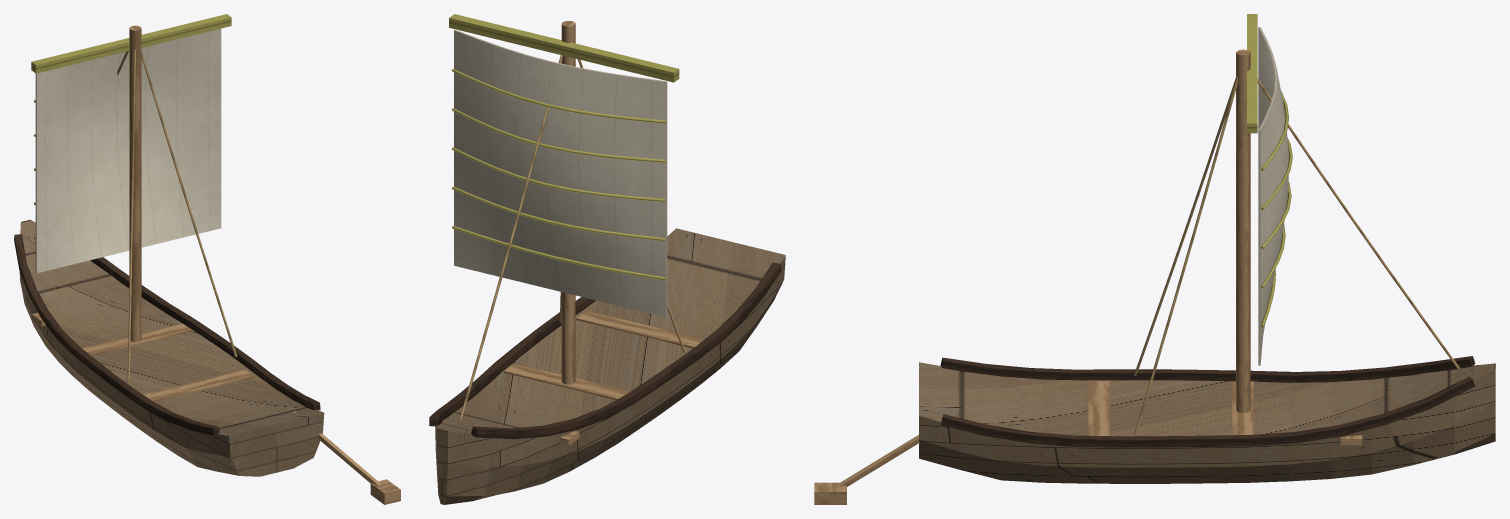
The model's file is HO_Harbour_Boat_Small.fbx.
3 views of the same model, side by side, from view 1: azimuth 30°, elevation 25°; view 2: azimuth 150°, elevation 25°; view 3: azimuth 270°, elevation 25° (orthographic). The views are drawn at different scales.
Parts seen in each view (by area): view 1: HO_Harbour_Boat_Small__Sail_Canvas, HO_Harbour_Boat_Small__Wood_Planks, HO_Harbour_Boat_Small__Timber_Light, HO_Harbour_Boat_Small__Timber_Dark, HO_Harbour_Boat_Small__Bamboo, HO_Harbour_Boat_Small__Rope; view 2: HO_Harbour_Boat_Small__Sail_Canvas, HO_Harbour_Boat_Small__Wood_Planks, HO_Harbour_Boat_Small__Bamboo, HO_Harbour_Boat_Small__Timber_Dark, HO_Harbour_Boat_Small__Timber_Light, HO_Harbour_Boat_Small__Rope; view 3: HO_Harbour_Boat_Small__Wood_Planks, HO_Harbour_Boat_Small__Timber_Dark, HO_Harbour_Boat_Small__Timber_Light, HO_Harbour_Boat_Small__Sail_Canvas, HO_Harbour_Boat_Small__Rope, HO_Harbour_Boat_Small__Bamboo.
Boxes of the visible parts, left/top/right/bottom form: HO_Harbour_Boat_Small__Sail_Canvas: left=35, top=28, right=221, bottom=273; HO_Harbour_Boat_Small__Wood_Planks: left=19, top=219, right=324, bottom=476; HO_Harbour_Boat_Small__Timber_Light: left=32, top=25, right=400, bottom=504; HO_Harbour_Boat_Small__Timber_Dark: left=14, top=234, right=320, bottom=435; HO_Harbour_Boat_Small__Bamboo: left=31, top=14, right=231, bottom=239; HO_Harbour_Boat_Small__Rope: left=117, top=48, right=237, bottom=382; HO_Harbour_Boat_Small__Sail_Canvas: left=454, top=29, right=667, bottom=317; HO_Harbour_Boat_Small__Wood_Planks: left=435, top=228, right=785, bottom=504; HO_Harbour_Boat_Small__Bamboo: left=449, top=14, right=679, bottom=280; HO_Harbour_Boat_Small__Timber_Dark: left=429, top=262, right=781, bottom=439; HO_Harbour_Boat_Small__Timber_Light: left=504, top=21, right=704, bottom=446; HO_Harbour_Boat_Small__Rope: left=459, top=41, right=685, bottom=420; HO_Harbour_Boat_Small__Wood_Planks: left=919, top=362, right=1495, bottom=483; HO_Harbour_Boat_Small__Timber_Dark: left=940, top=356, right=1475, bottom=447; HO_Harbour_Boat_Small__Timber_Light: left=814, top=49, right=1362, bottom=504; HO_Harbour_Boat_Small__Sail_Canvas: left=1258, top=27, right=1289, bottom=365; HO_Harbour_Boat_Small__Rope: left=1134, top=67, right=1460, bottom=435; HO_Harbour_Boat_Small__Bamboo: left=1247, top=14, right=1292, bottom=327.
Bounding box in the file's own units: 7.2 × 12.6 × 18.9.
